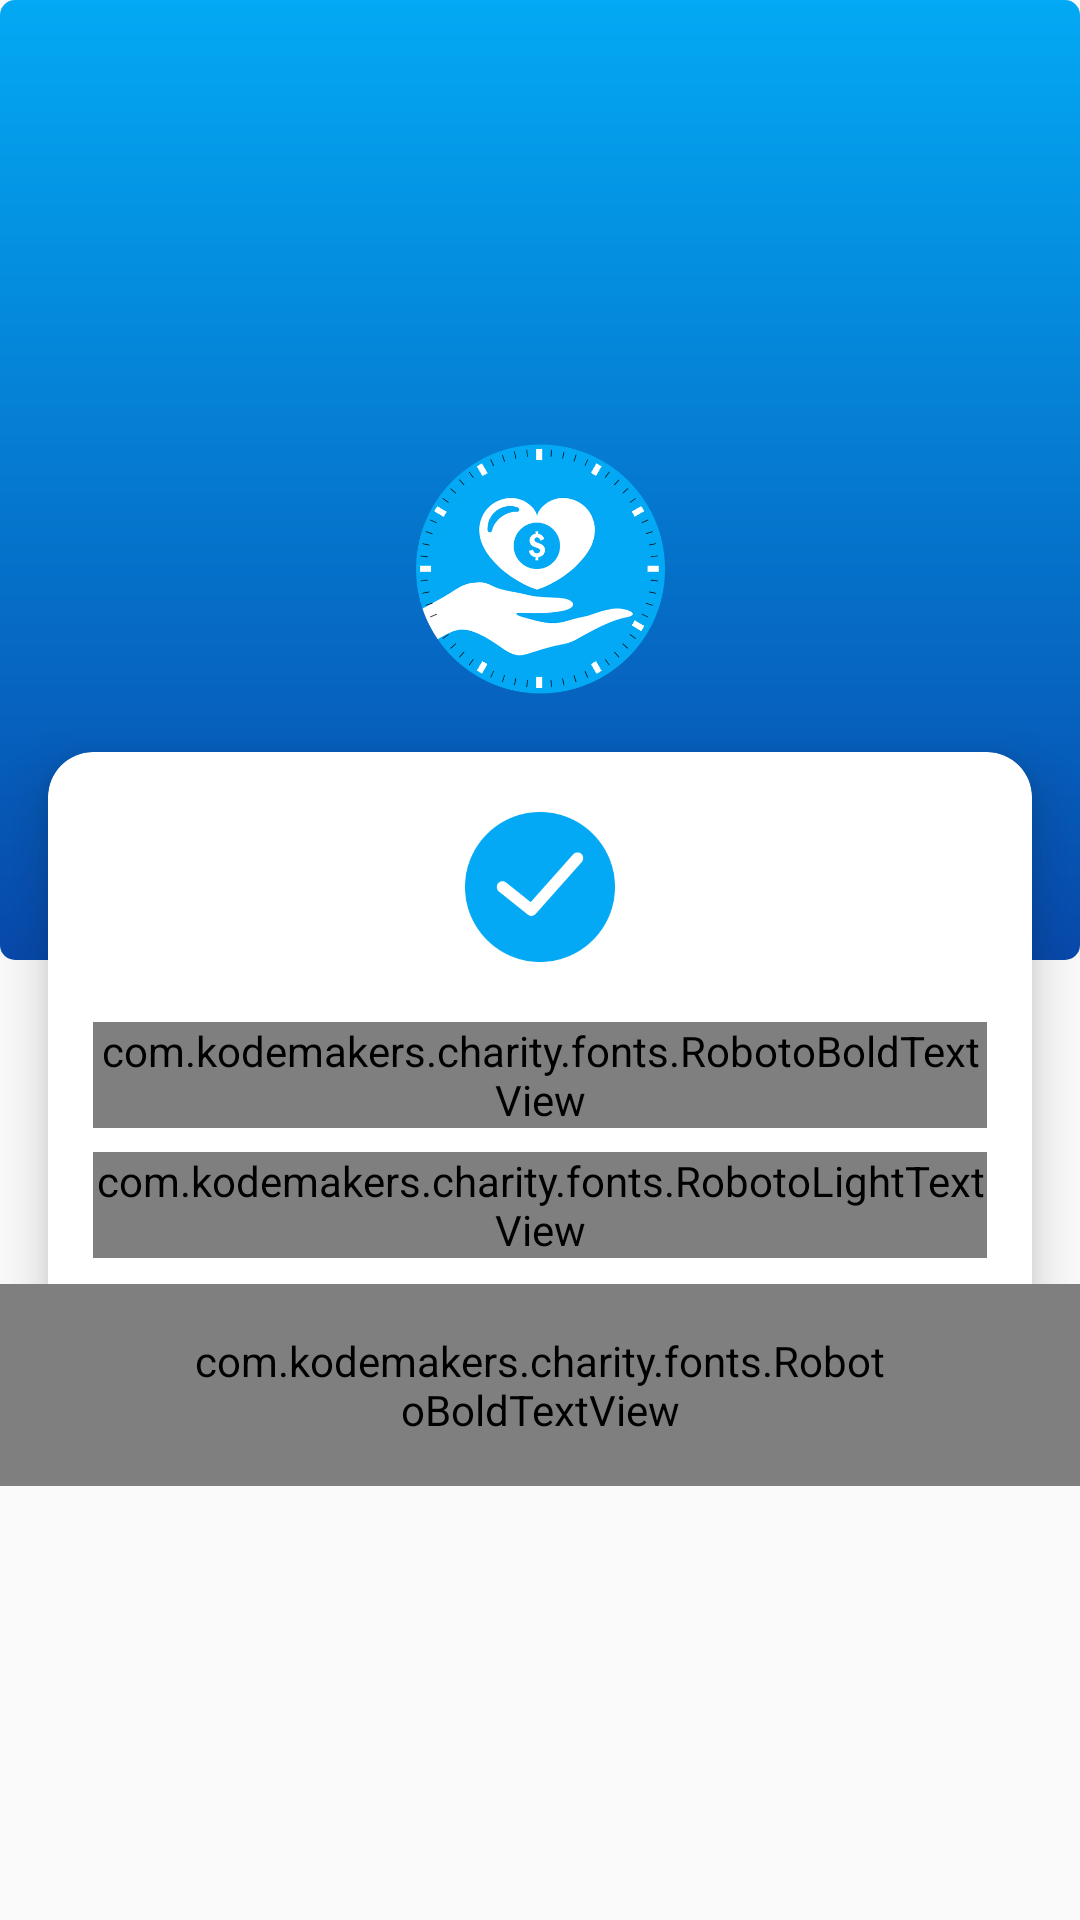

Where icons sit on this 1080w x 1920h app screen, as [left=x1, top=y1, right=x2, bottom=y2]:
success: [left=465, top=812, right=615, bottom=962]
